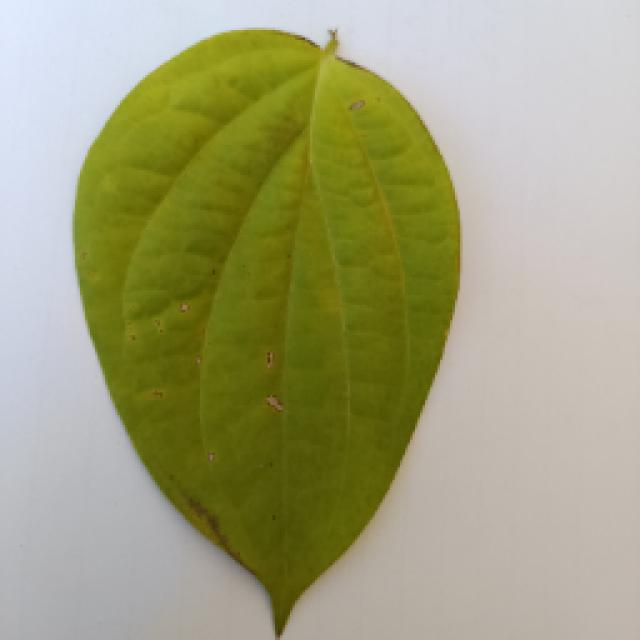slow-decline: (70, 30, 455, 632)
